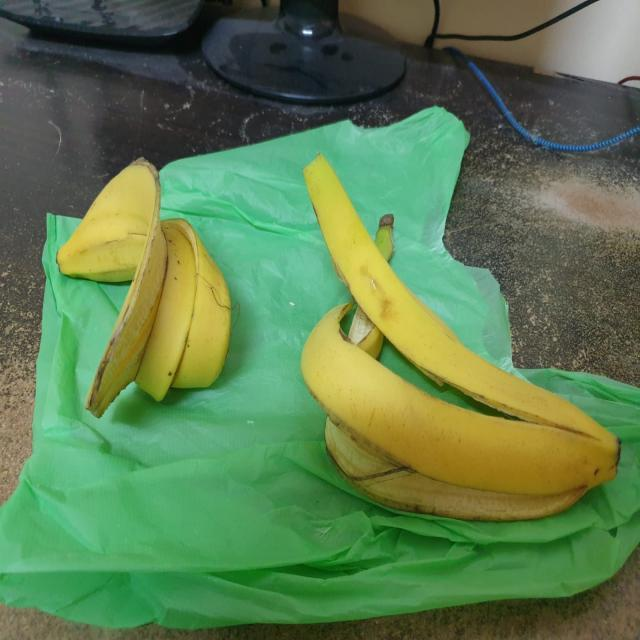banana-peel: (299, 151, 621, 521), (56, 155, 232, 418)
